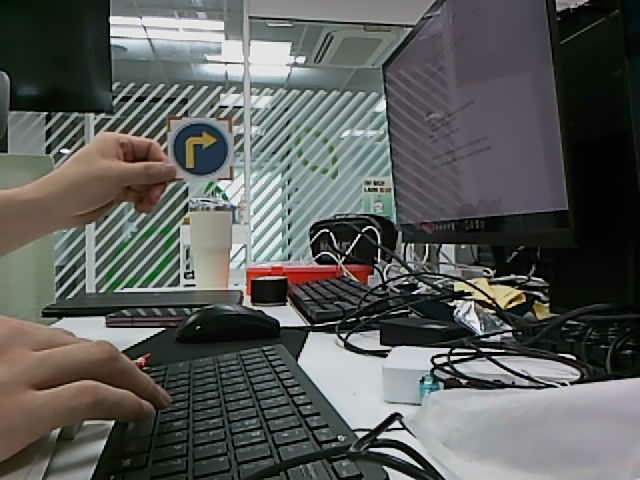right: (173, 122, 229, 176)
